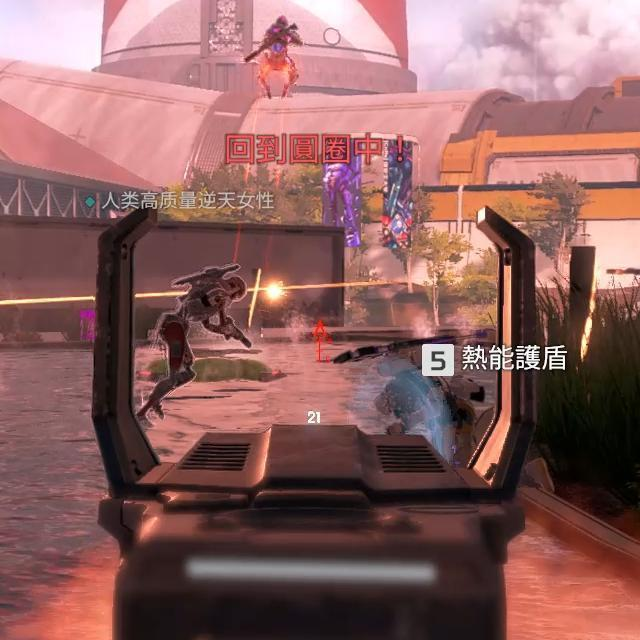avatar: (154, 273, 254, 403)
